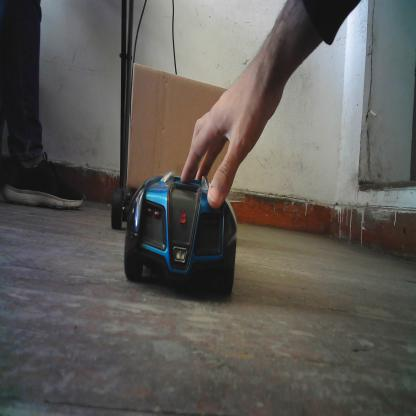LeadTruck: (112, 61, 229, 231)
